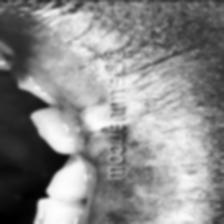Potentially Malignant Skin Tumors: (86, 107, 110, 152)
